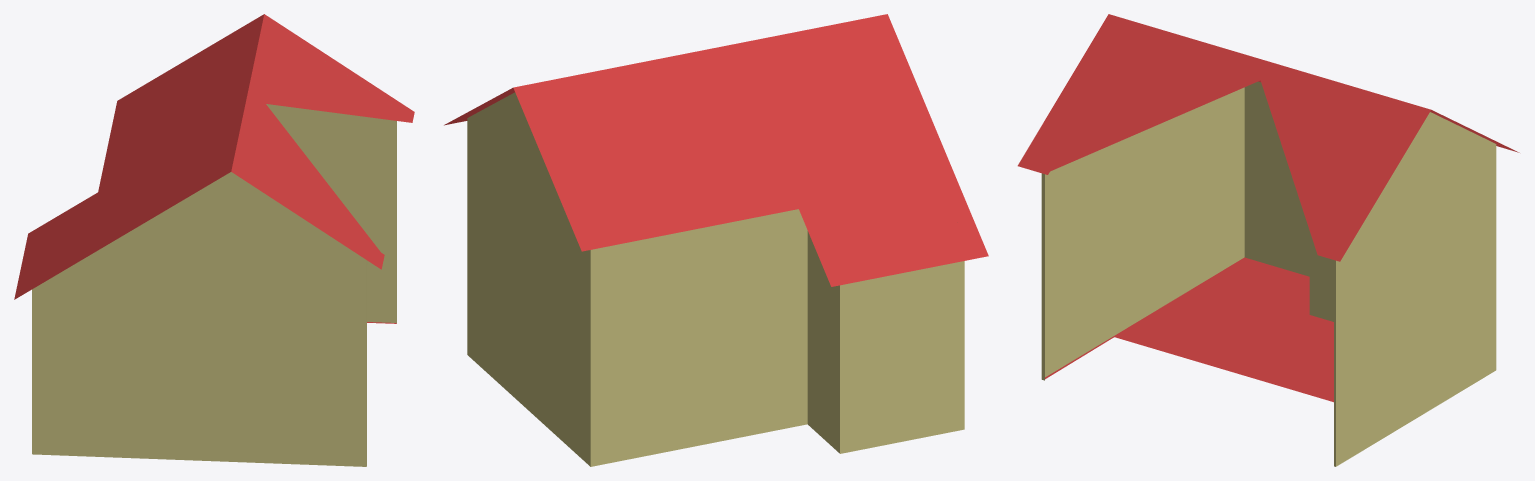
3 views of the same model, side by side, from view 1: azimuth 30°, elevation 25°; view 2: azimuth 150°, elevation 25°; view 3: azimuth 270°, elevation 25° (orthographic). The views are drawn at different scales.
Size of the model in its own units: 15.71 by 14.53 by 9.96.
